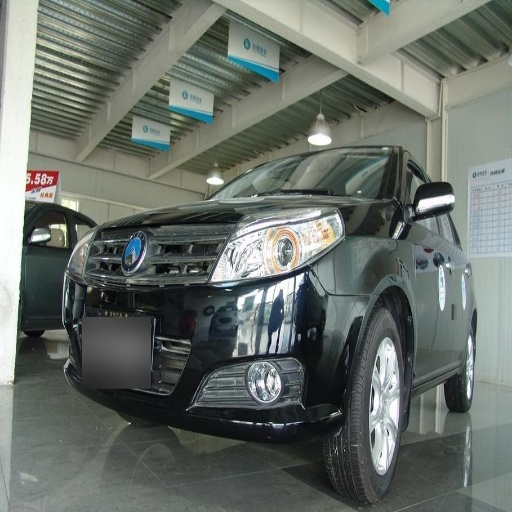front_bumper: (67, 217, 370, 438)
front_glass: (285, 151, 383, 195)
front_left_door: (402, 159, 447, 376)
